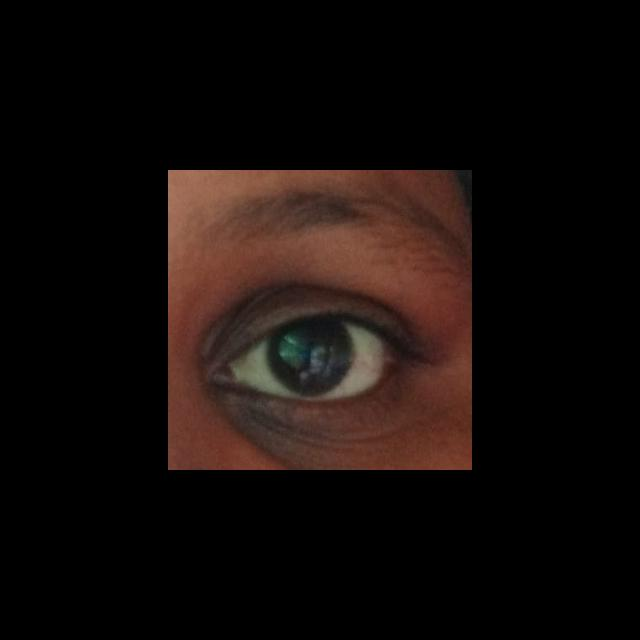eye: (229, 317, 394, 402)
iris: (268, 322, 352, 395)
